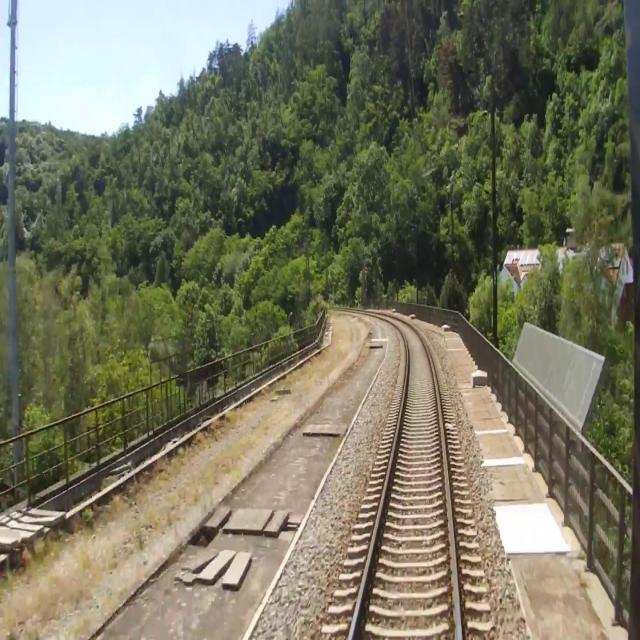rail-track: (352, 321, 456, 639)
